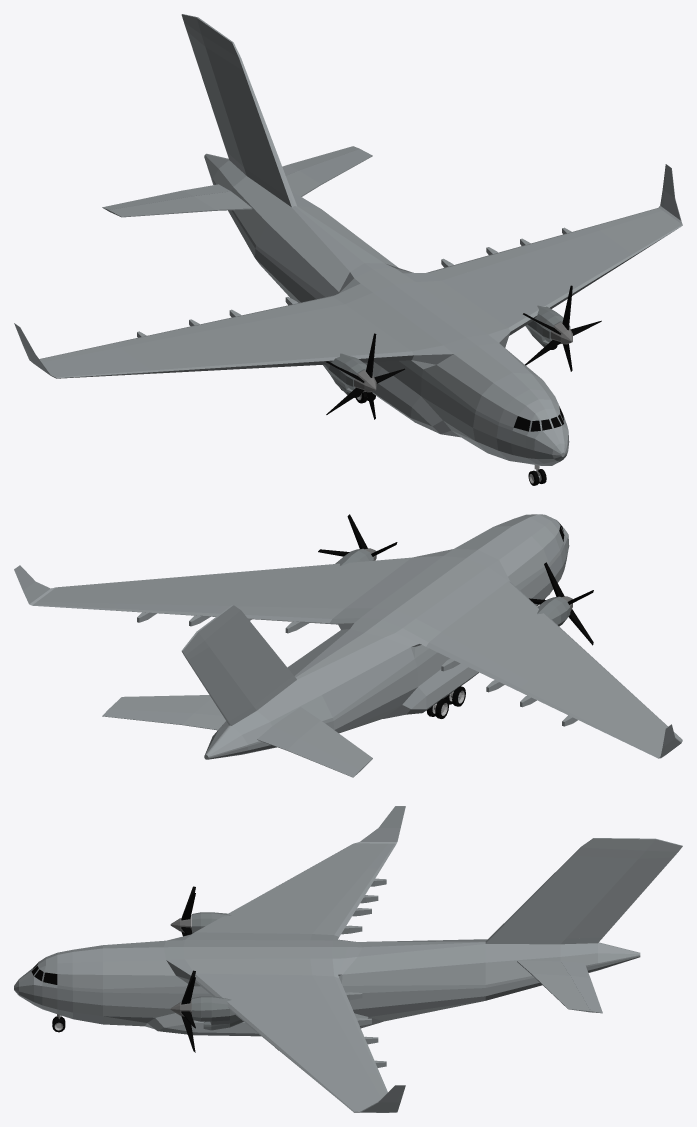
The picture shows the model from 3 angles, top to bottom: view 1: azimuth 30°, elevation 25°; view 2: azimuth 150°, elevation 25°; view 3: azimuth 270°, elevation 25°; orthographic projection. The views are drawn at different scales.
Parts seen in each view (by area): view 1: Body.002, Rudder.002, R_Flap2.002, propeller 2.008, propeller 2.010, L_Flap2.002, R_elevator.002, R_Flap1.002, L_Flap1.002; view 2: Body.002, Rudder.002, R_Flap2.002, L_Flap2.002, R_elevator.002, L_Elevator.002, R_Flap1.002, L_Flap1.002, propeller 2.010, Landing gear_RR.002, R_ailerone.002, propeller 2.008 (+1 smaller); view 3: Body.002, Rudder.002, L_Flap2.002, R_Flap2.002, L_Elevator.002, L_Flap1.002, R_Flap1.002, propeller 2.008, propeller 2.010.
Part boxes in pixels (x1=…): Body.002: x1=14, y1=14, x2=682, y2=465; Rudder.002: x1=187, y1=31, x2=243, y2=166; R_Flap2.002: x1=229, y1=296, x2=344, y2=323; propeller 2.008: x1=523, y1=285, x2=601, y2=371; propeller 2.010: x1=326, y1=333, x2=404, y2=419; L_Flap2.002: x1=426, y1=247, x2=514, y2=280; R_elevator.002: x1=102, y1=184, x2=230, y2=211; R_Flap1.002: x1=116, y1=319, x2=221, y2=346; L_Flap1.002: x1=519, y1=226, x2=599, y2=252; Body.002: x1=14, y1=514, x2=682, y2=771; Rudder.002: x1=187, y1=647, x2=253, y2=721; R_Flap2.002: x1=426, y1=632, x2=514, y2=692; L_Flap2.002: x1=239, y1=606, x2=344, y2=633; R_elevator.002: x1=257, y1=726, x2=359, y2=777; L_Elevator.002: x1=102, y1=709, x2=225, y2=730; R_Flap1.002: x1=518, y1=681, x2=599, y2=726; L_Flap1.002: x1=116, y1=603, x2=221, y2=626; propeller 2.010: x1=529, y1=562, x2=593, y2=645; Landing gear_RR.002: x1=426, y1=686, x2=465, y2=718; R_ailerone.002: x1=596, y1=722, x2=660, y2=758; propeller 2.008: x1=318, y1=514, x2=397, y2=560; Body.002: x1=14, y1=806, x2=682, y2=1112; Rudder.002: x1=566, y1=857, x2=672, y2=938; L_Flap2.002: x1=312, y1=975, x2=371, y2=1025; R_Flap2.002: x1=312, y1=903, x2=371, y2=936; L_Elevator.002: x1=561, y1=961, x2=602, y2=1013; L_Flap1.002: x1=342, y1=1029, x2=386, y2=1074; R_Flap1.002: x1=343, y1=869, x2=386, y2=903; propeller 2.008: x1=170, y1=970, x2=195, y2=1052; propeller 2.010: x1=170, y1=886, x2=195, y2=936.
Bounding box in the file's own units: 4044 × 1295 × 4093.
